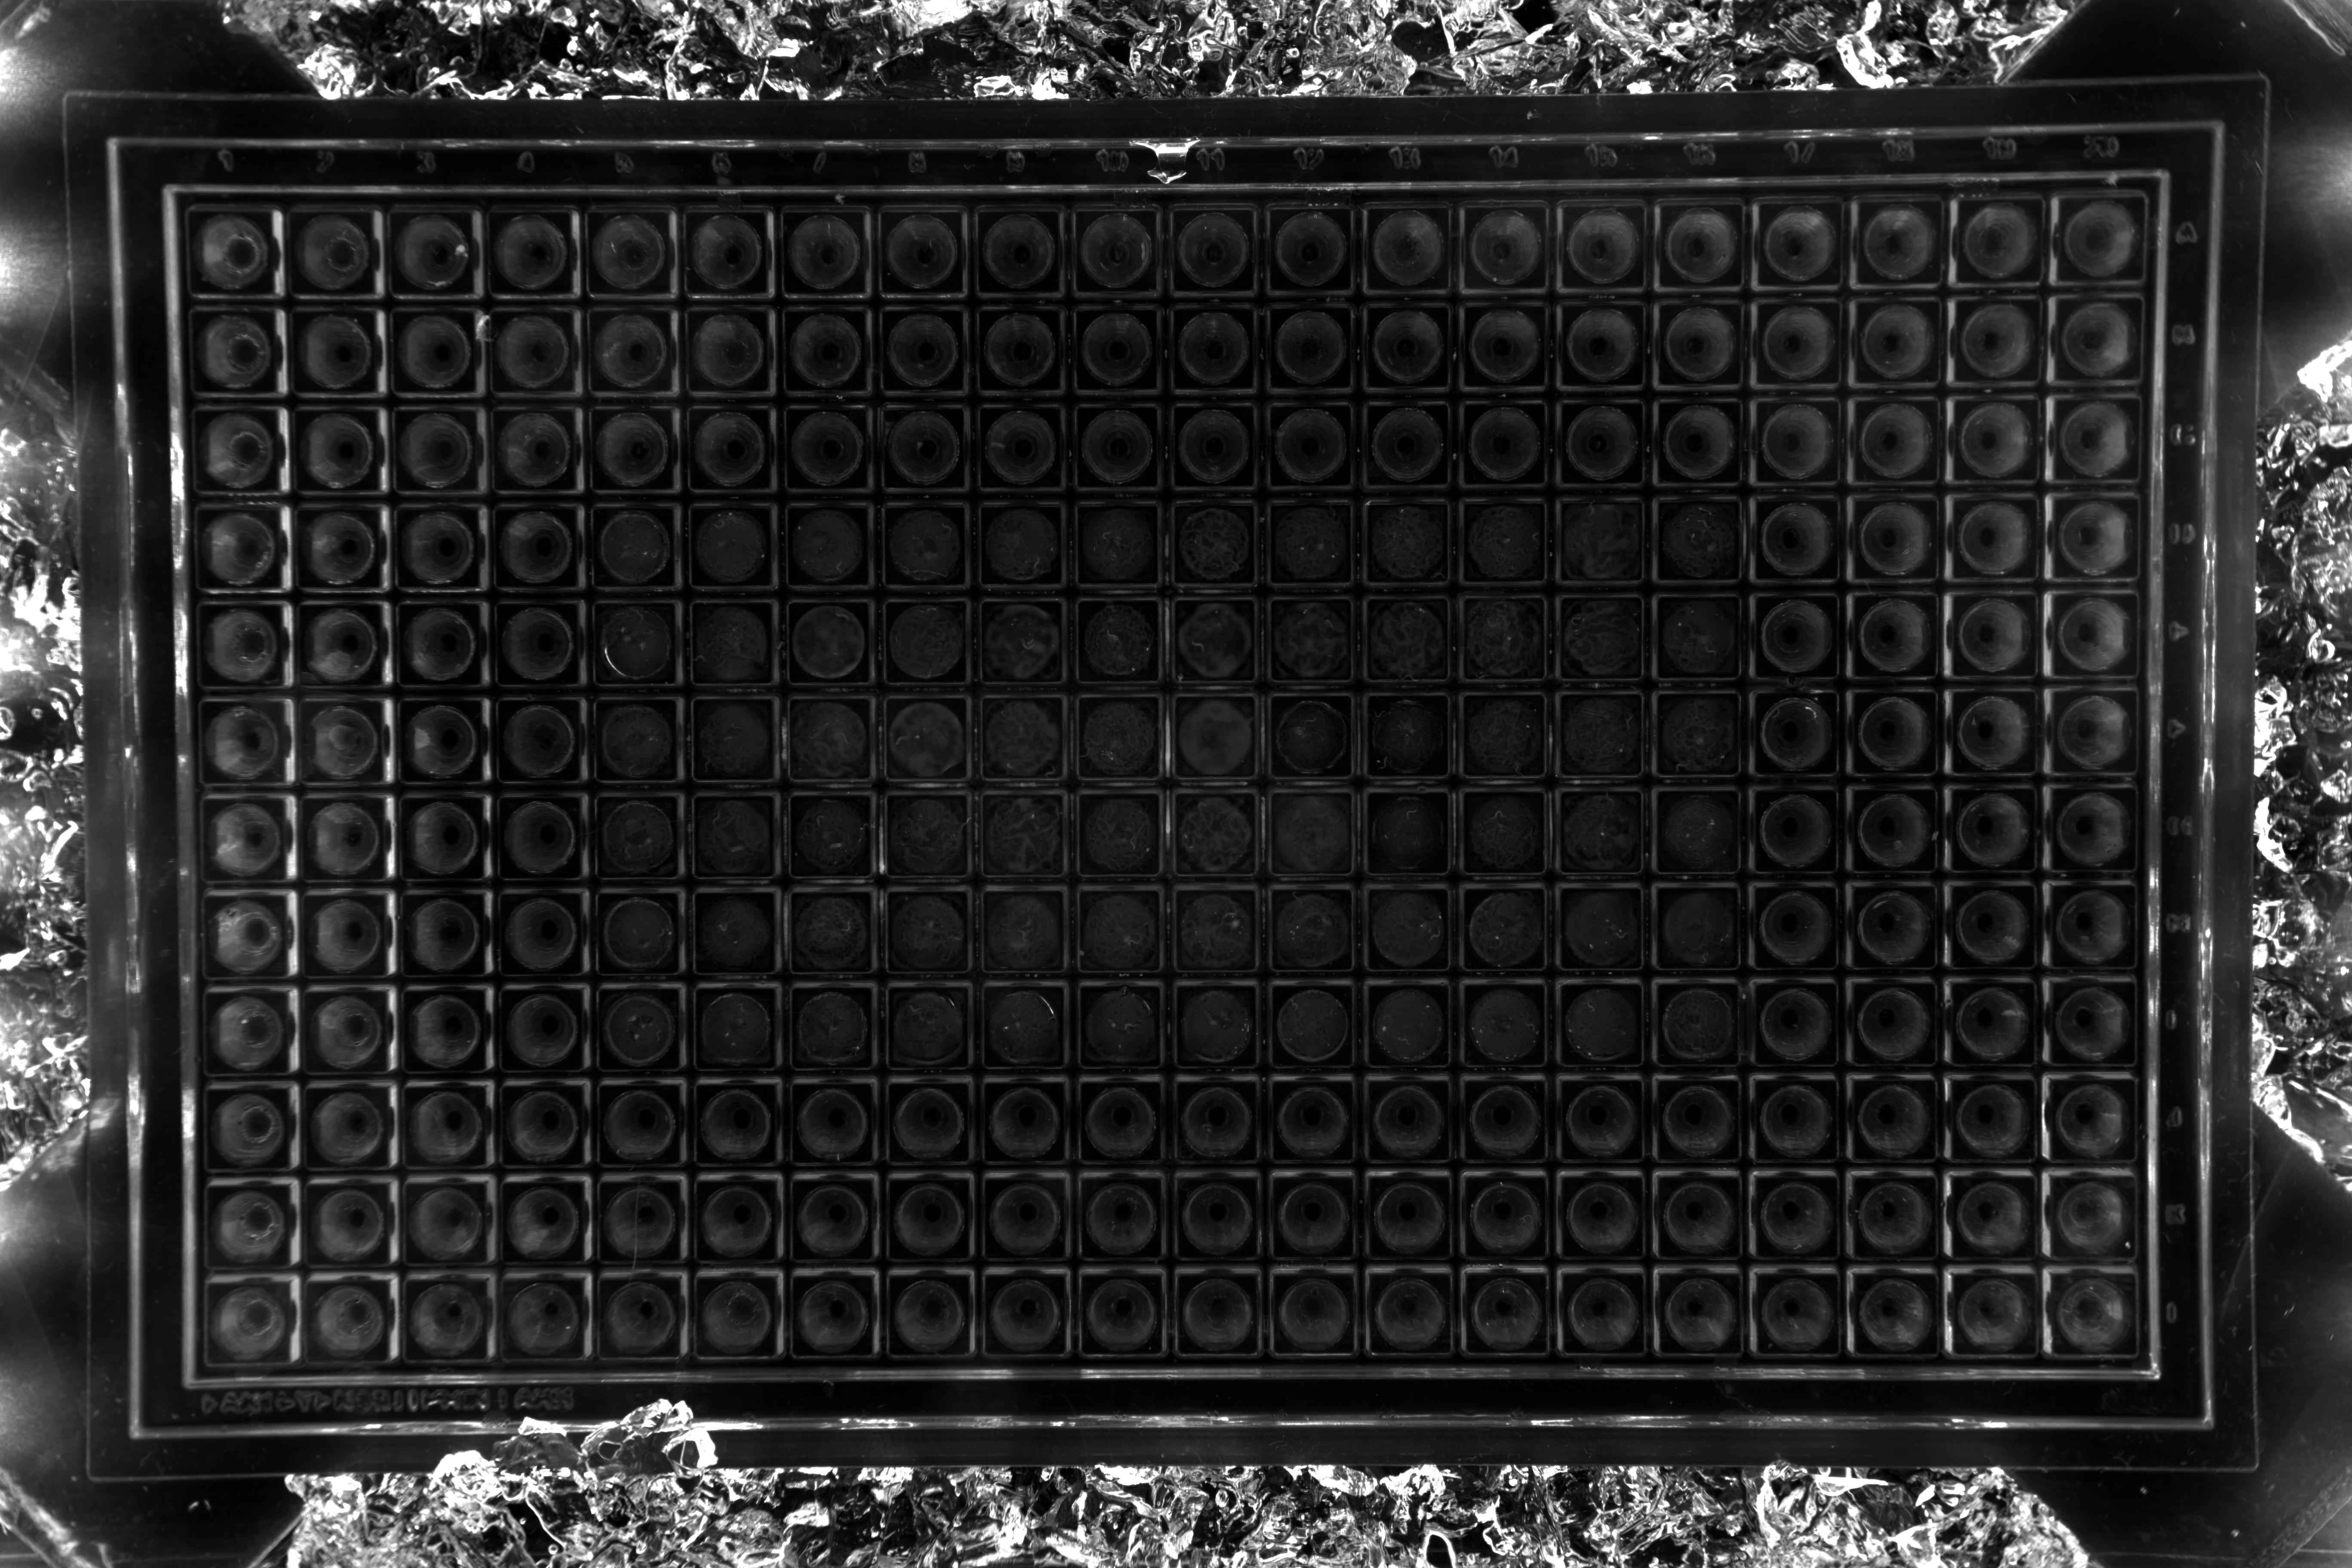WM_well: (497, 828, 586, 915), (497, 1118, 586, 1206), (689, 534, 779, 621), (205, 1120, 292, 1207), (303, 1216, 390, 1304), (390, 238, 478, 325), (497, 730, 584, 817), (593, 632, 681, 719), (595, 924, 682, 1011), (887, 728, 975, 815), (1080, 1017, 1167, 1104), (1080, 726, 1167, 814), (1274, 240, 1361, 327), (1370, 630, 1458, 717), (1466, 630, 1554, 717), (1564, 822, 1652, 910), (1568, 234, 1655, 322), (1662, 628, 1750, 716), (1664, 530, 1752, 618), (1760, 822, 1848, 910), (1857, 1213, 1944, 1300), (1956, 919, 2044, 1006)
